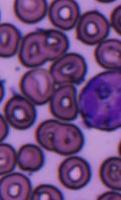N: (80, 71, 121, 130)
